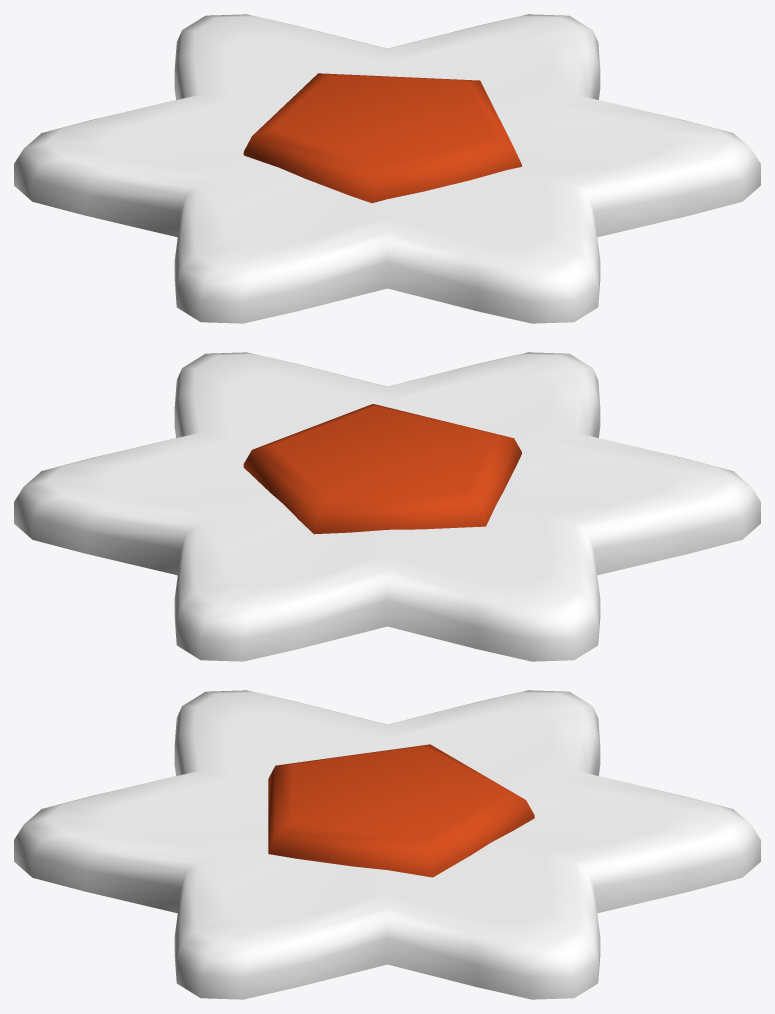
Rendered from Flower.fbx.
3 views of the same model, one above another, from view 1: azimuth 30°, elevation 25°; view 2: azimuth 150°, elevation 25°; view 3: azimuth 270°, elevation 25° (orthographic).
Parts seen in each view (by area): view 1: Flower; view 2: Flower; view 3: Flower.
Boxes of the visible parts, x1,y1,x2,y2 form: Flower: (14,14,760,323); Flower: (14,352,760,661); Flower: (14,690,760,999).
Size of the model in its own units: 0.0989 by 0.0117 by 0.1131.
